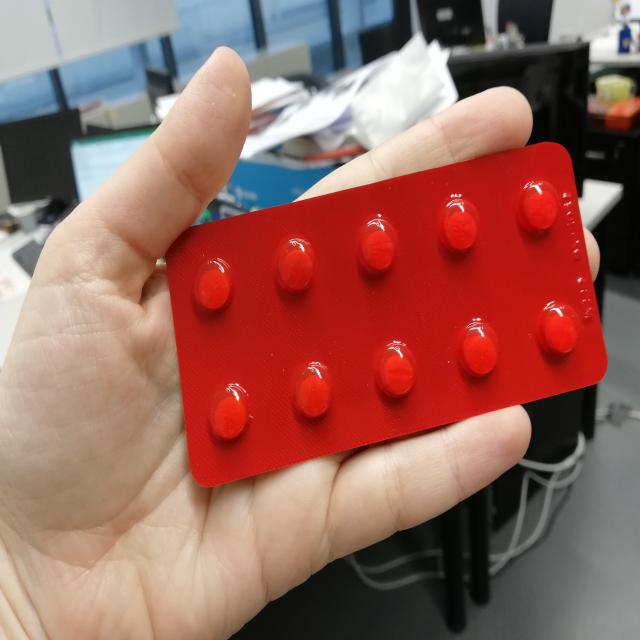Pill: (198, 372, 264, 456), (340, 200, 403, 285), (282, 358, 347, 432), (367, 330, 422, 414), (183, 252, 249, 320), (533, 290, 592, 366), (262, 228, 324, 300), (448, 315, 508, 387), (429, 191, 483, 261), (516, 172, 566, 241)
